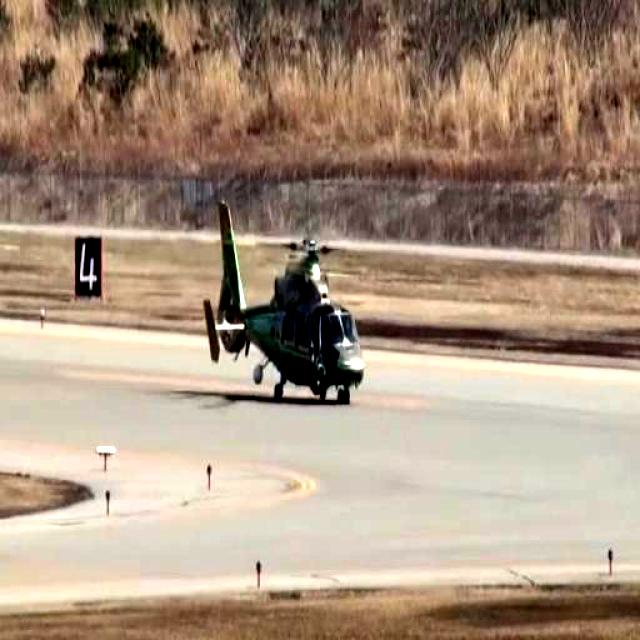drone: (202, 188, 374, 419)
